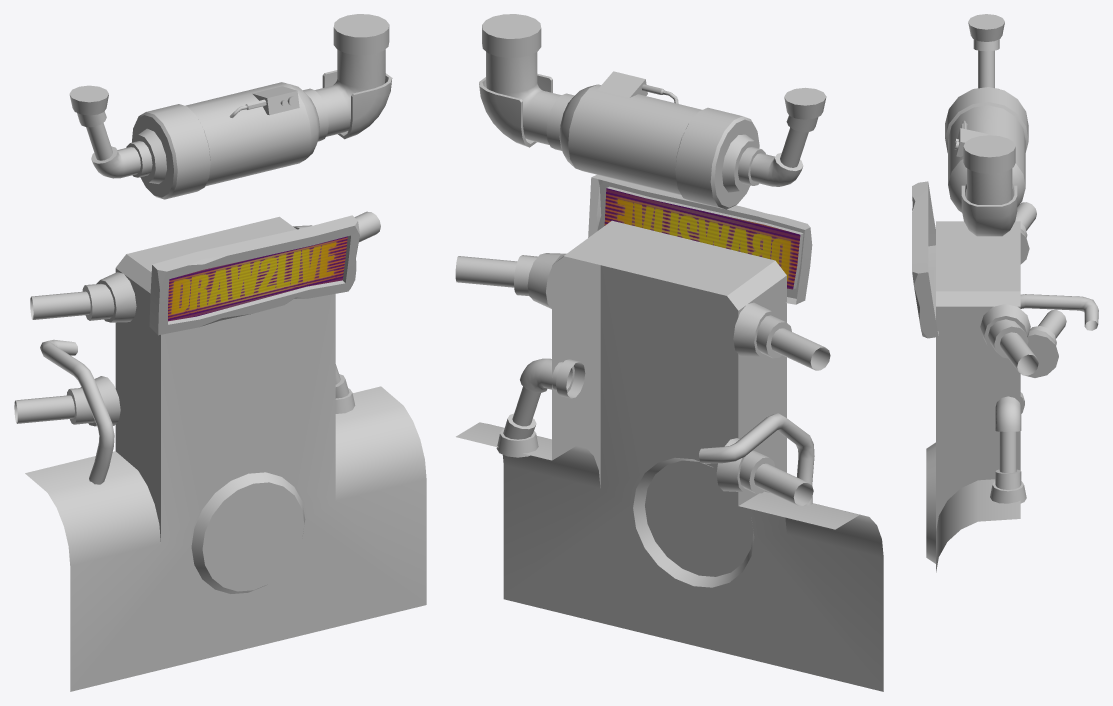
The model's file is menu.fbx.
The picture shows the model from 3 angles, left to right: view 1: azimuth 30°, elevation 25°; view 2: azimuth 150°, elevation 25°; view 3: azimuth 270°, elevation 25°; orthographic projection. The views are drawn at different scales.
Visible parts, largest first — view 1: base, upper_part, banner, name; view 2: base, upper_part, name, banner; view 3: base, upper_part, banner.
Boxes of the visible parts, x1,y1,x2,y2 form: base: (14,211,426,691); upper_part: (69,14,392,199); banner: (149,215,359,335); name: (168,236,347,321); base: (455,220,883,691); upper_part: (479,14,826,209); name: (604,188,800,289); banner: (588,174,812,304); base: (926,202,1098,572); upper_part: (945,14,1028,236); banner: (912,181,938,338).
Size of the model in its own units: 0.9185 by 1.4 by 0.4465.
